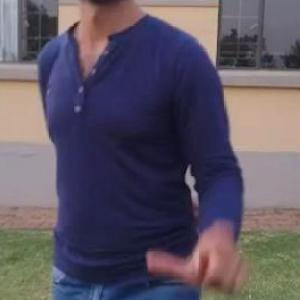land_hand: (144, 217, 254, 299)
